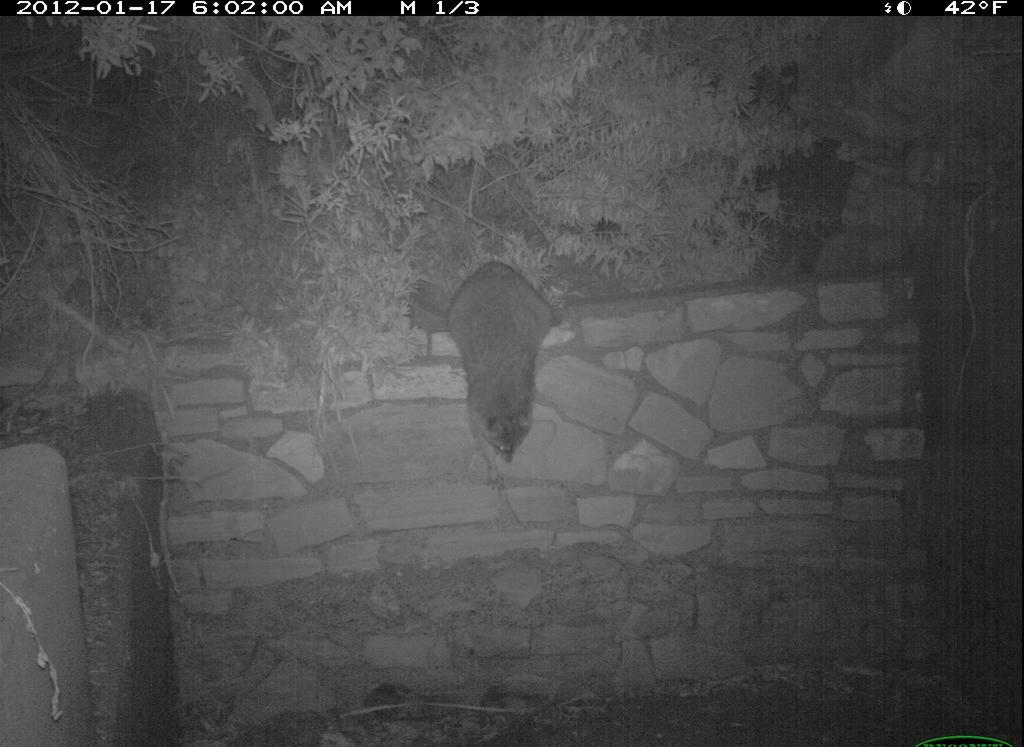raccoon: (437, 253, 577, 501)
